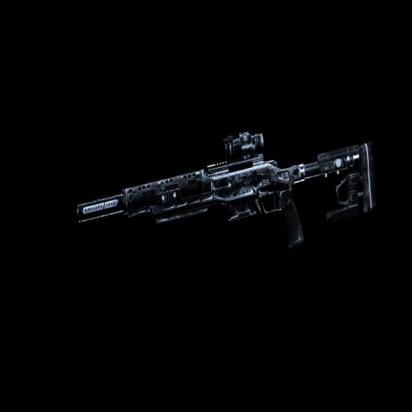Gun: (69, 79, 382, 310)
